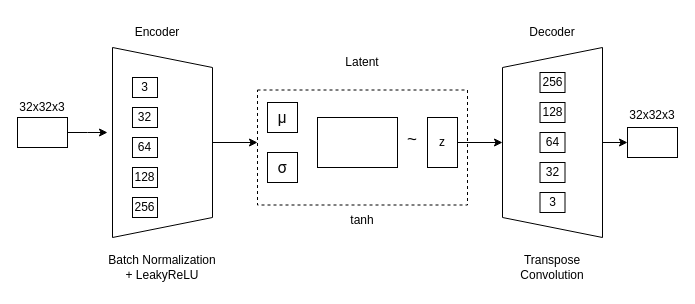
Some shapes in this 695 by 304 pixel diagram are drawn without their labels. Here are the shapes that lost their labels. From the top down, the box of each, then its label:
(16, 116, 68, 148): Input
(316, 116, 398, 168): N( μ , σ )
(626, 126, 678, 158): Output
